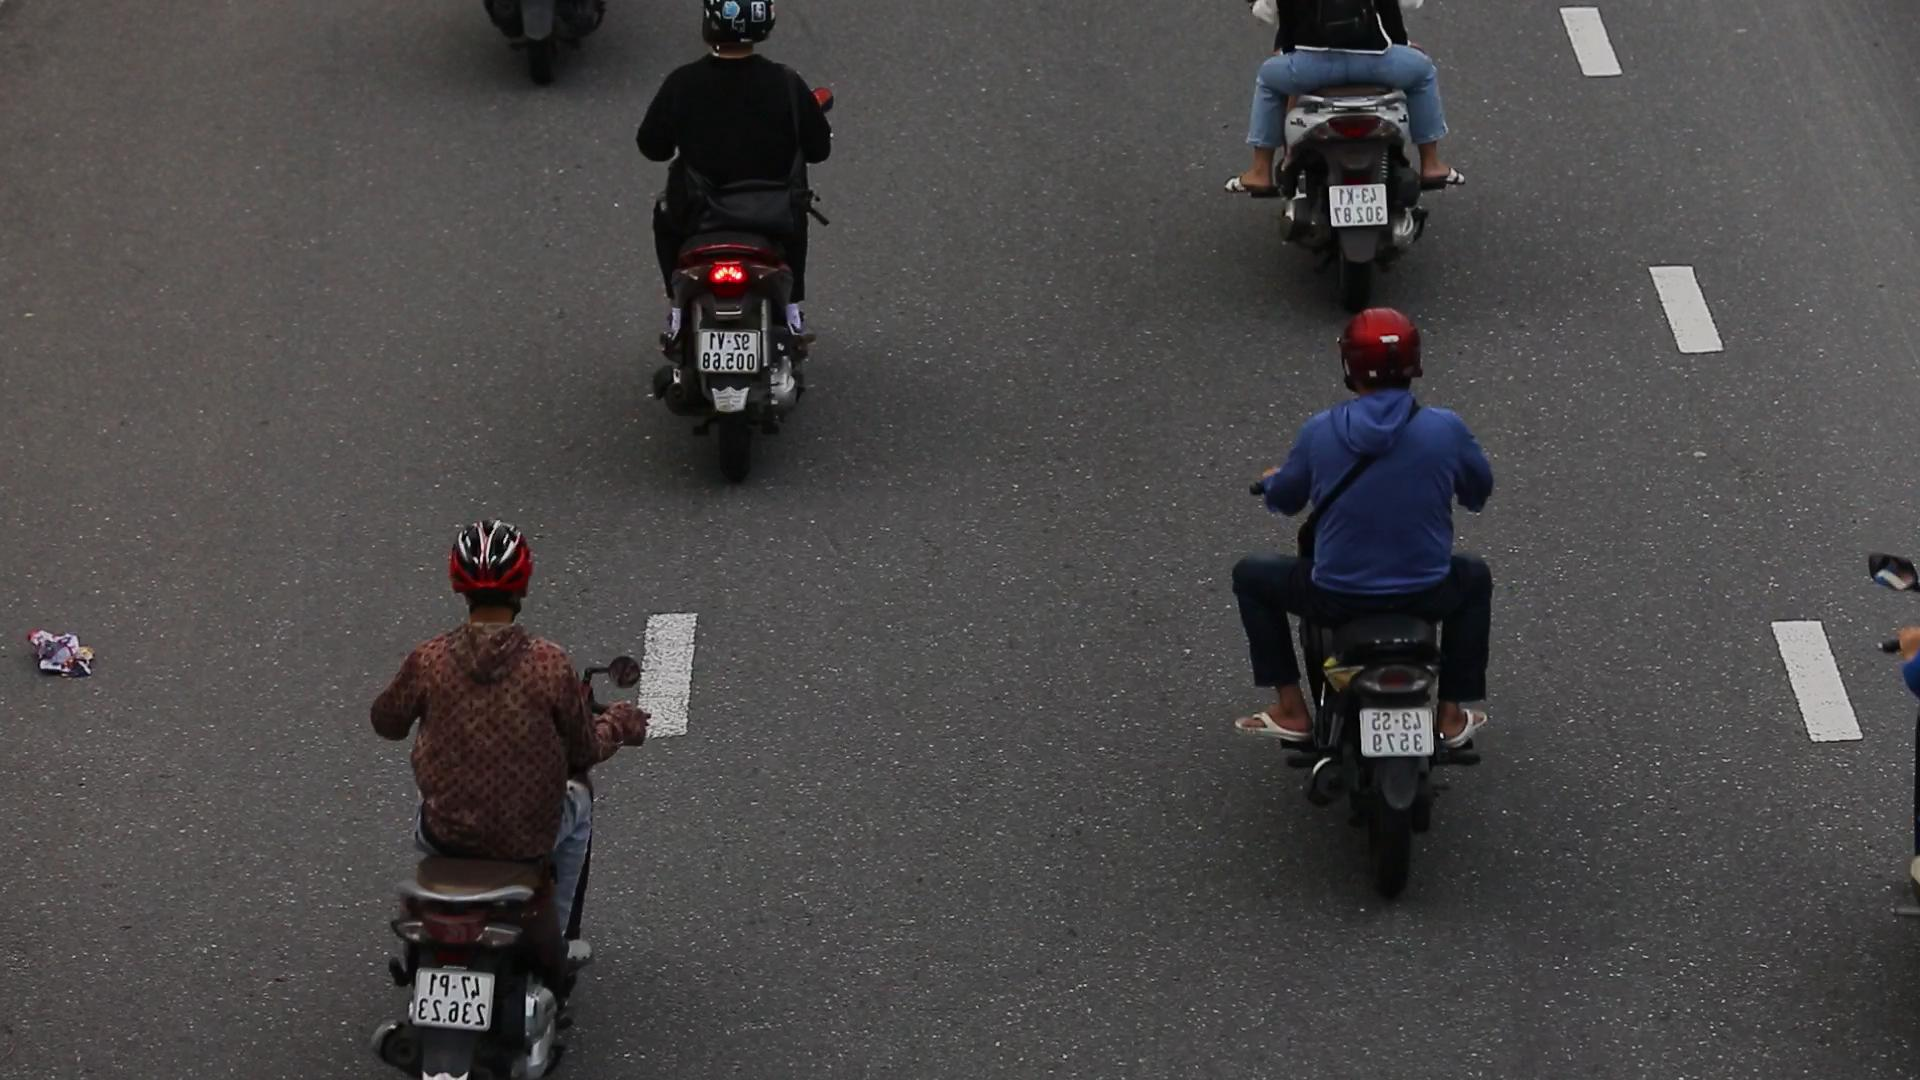motobike: (1226, 303, 1509, 880), (373, 509, 649, 1080)
